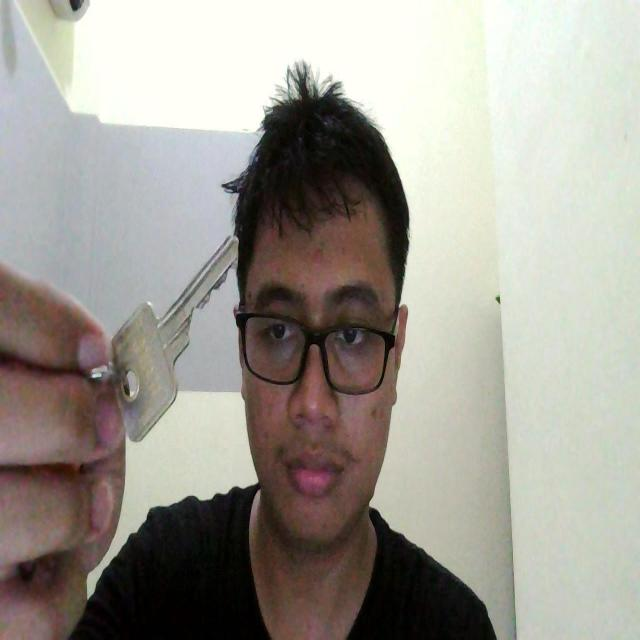kunci_kos: (100, 228, 243, 446)
